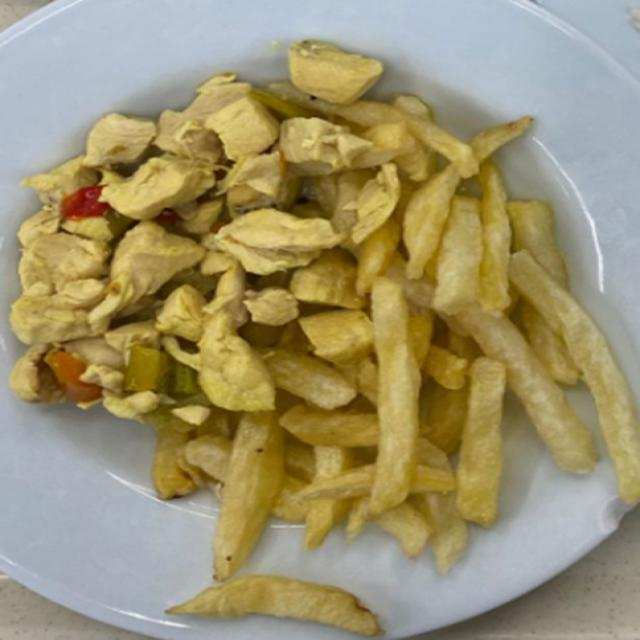ana_yemek: (12, 31, 640, 640)
